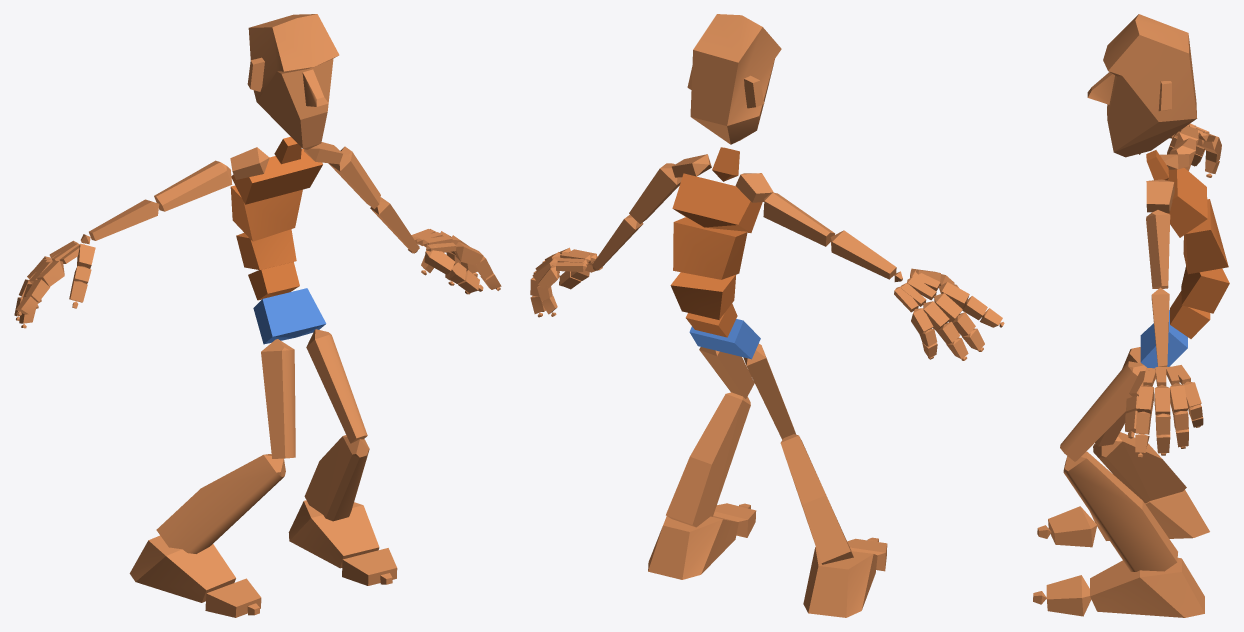
3 views of the same model, side by side, from view 1: azimuth 30°, elevation 25°; view 2: azimuth 150°, elevation 25°; view 3: azimuth 270°, elevation 25° (orthographic). The views are drawn at different scales.
Parts seen in each view (by area): view 1: BOPED_Head, BOPED_R_leg, BOPED_R_foot, BOPED_R_foot01, BOPED_L_leg, BOPED_R_legup, BOPED_L_legup, Bone01, Bone04, Bone05, BOPED_R_arm_upper, Bone03 (+7 smaller); view 2: BOPED_Head, BOPED_L_leg, BOPED_R_foot01, BOPED_R_foot, BOPED_R_leg, Bone04, Bone05, Bone03, BOPED_R_legup, BOPED_R_arm_upper, Bone01, BOPED_R_arm_fore (+9 smaller); view 3: BOPED_Head, BOPED_L_leg, BOPED_R_foot01, BOPED_R_leg, BOPED_L_legup, Bone05, BOPED_R_foot, Bone04, Bone03, BOPED_L_arm_upper, BOPED_R_foot_toe01, BOPED_R_foot_toe04 (+15 smaller).
Boxes of the visible parts, bbox=[...] form: BOPED_Head: bbox=[247, 14, 339, 149]; BOPED_R_leg: bbox=[156, 454, 285, 553]; BOPED_R_foot: bbox=[129, 535, 235, 602]; BOPED_R_foot01: bbox=[288, 500, 379, 568]; BOPED_L_leg: bbox=[304, 435, 369, 521]; BOPED_R_legup: bbox=[261, 339, 295, 458]; BOPED_L_legup: bbox=[306, 329, 367, 443]; Bone01: bbox=[253, 288, 326, 344]; Bone04: bbox=[230, 185, 302, 241]; Bone05: bbox=[231, 148, 322, 204]; BOPED_R_arm_upper: bbox=[154, 160, 232, 211]; Bone03: bbox=[236, 229, 296, 269]; BOPED_Head: bbox=[687, 14, 781, 144]; BOPED_L_leg: bbox=[666, 392, 750, 527]; BOPED_R_foot01: bbox=[648, 516, 738, 579]; BOPED_R_foot: bbox=[803, 547, 877, 617]; BOPED_R_leg: bbox=[780, 434, 853, 564]; Bone04: bbox=[673, 217, 747, 279]; Bone05: bbox=[672, 173, 762, 232]; Bone03: bbox=[670, 272, 735, 319]; BOPED_R_legup: bbox=[743, 343, 795, 439]; BOPED_R_arm_upper: bbox=[763, 192, 834, 246]; Bone01: bbox=[689, 319, 760, 359]; BOPED_R_arm_fore: bbox=[830, 230, 896, 279]; BOPED_Head: bbox=[1087, 14, 1197, 157]; BOPED_L_leg: bbox=[1063, 451, 1177, 571]; BOPED_R_foot01: bbox=[1090, 557, 1204, 617]; BOPED_R_leg: bbox=[1093, 432, 1186, 503]; BOPED_L_legup: bbox=[1060, 361, 1146, 461]; Bone05: bbox=[1167, 167, 1207, 237]; BOPED_R_foot: bbox=[1090, 490, 1209, 540]; Bone04: bbox=[1183, 199, 1228, 274]; Bone03: bbox=[1181, 266, 1229, 313]; BOPED_L_arm_upper: bbox=[1146, 210, 1170, 288]; BOPED_R_foot_toe01: bbox=[1048, 506, 1097, 547]; BOPED_R_foot_toe04: bbox=[1046, 575, 1091, 616].
Size of the model in its own units: 163 by 178 by 56.5.
